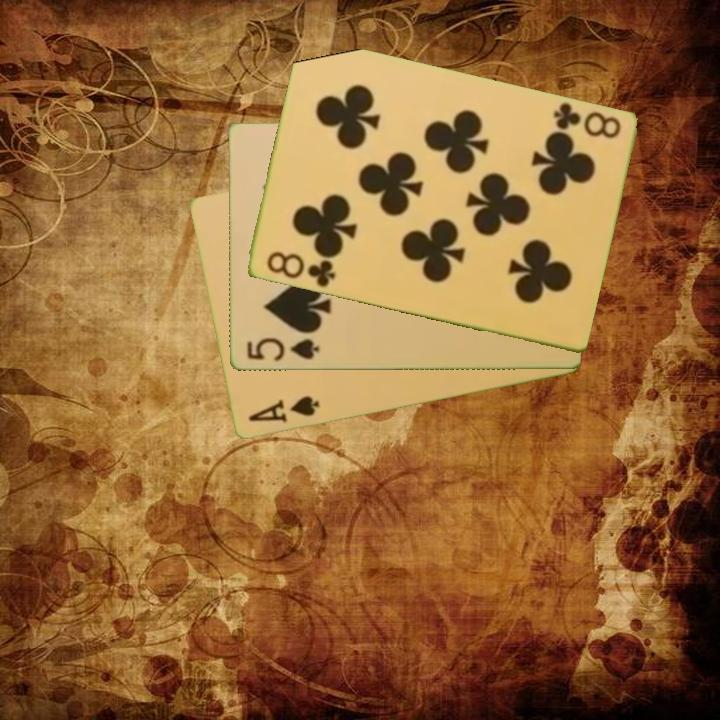5s: (243, 334, 322, 364)
8c: (262, 248, 338, 291), (549, 99, 624, 142)
As: (244, 392, 322, 426)
